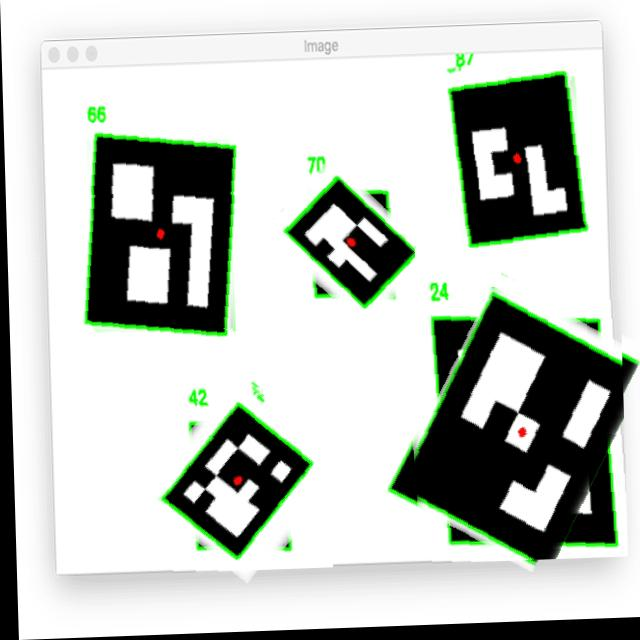aruco: (398, 283, 624, 567), (70, 122, 245, 343), (148, 382, 329, 575), (437, 60, 591, 276), (273, 164, 415, 322)
